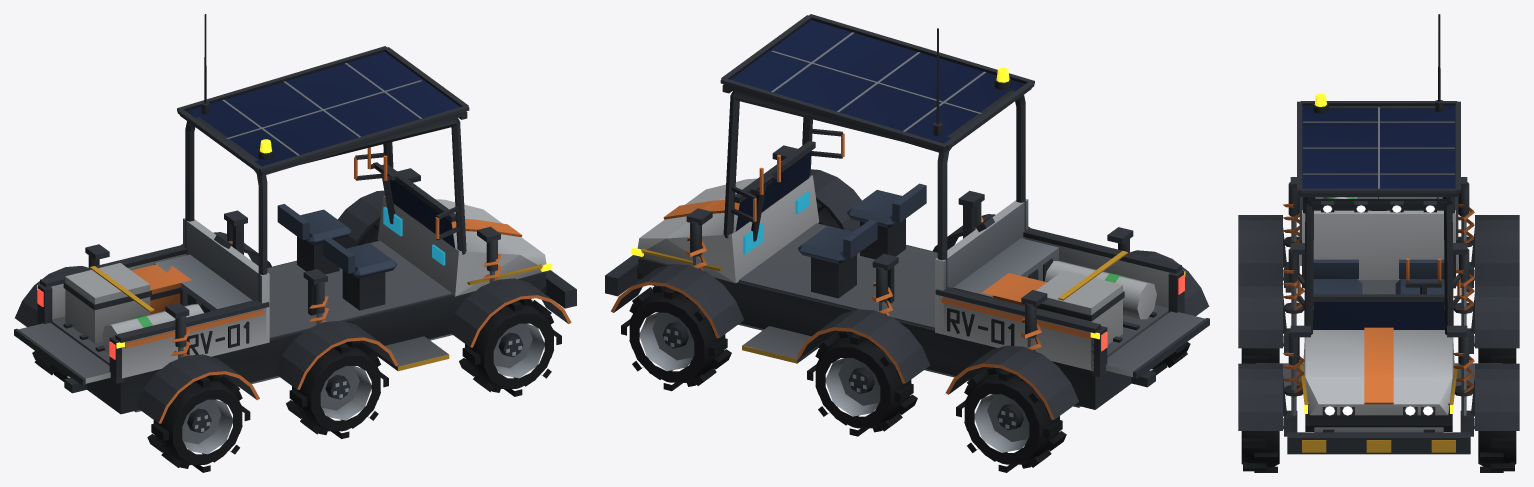
File: vehicle_rover_small.glb
3 views of the same model, side by side, from view 1: azimuth 30°, elevation 25°; view 2: azimuth 150°, elevation 25°; view 3: azimuth 270°, elevation 25° (orthographic). The views are drawn at different scales.
Visible parts, largest first — view 1: Body, Cargo, Wheel_MR, Wheel_RR, Wheel_FR, Susp_MR, Steer_FR, Steer_RR, Door_Tailgate, Steer_FL, Steer_RL; view 2: Body, Wheel_ML, Wheel_RL, Wheel_FL, Cargo, Susp_ML, Steer_RL, Steer_FL, Door_Tailgate, Steer_FR, Steer_RR; view 3: Body, Susp_ML, Susp_MR, Steer_FR, Steer_FL, Steer_RR, Steer_RL, Wheel_FL, Wheel_FR, Susp_FR, Susp_FL, Wheel_ML (+4 smaller).
Part boxes in pixels (left/top/right/bottom): Body: left=37, top=14, right=576, bottom=414; Cargo: left=63, top=263, right=203, bottom=354; Wheel_MR: left=286, top=341, right=388, bottom=438; Wheel_RR: left=147, top=375, right=250, bottom=472; Wheel_FR: left=459, top=299, right=561, bottom=396; Susp_MR: left=274, top=296, right=398, bottom=389; Steer_FR: left=447, top=278, right=571, bottom=347; Steer_RR: left=136, top=354, right=259, bottom=423; Door_Tailgate: left=14, top=322, right=110, bottom=385; Steer_FL: left=338, top=190, right=385, bottom=248; Steer_RL: left=15, top=266, right=87, bottom=326; Body: left=605, top=14, right=1185, bottom=409; Wheel_ML: left=807, top=331, right=917, bottom=436; Wheel_RL: left=956, top=367, right=1066, bottom=472; Wheel_FL: left=621, top=285, right=731, bottom=391; Cargo: left=982, top=251, right=1156, bottom=344; Susp_ML: left=796, top=282, right=930, bottom=383; Steer_RL: left=945, top=345, right=1078, bottom=419; Steer_FL: left=611, top=264, right=743, bottom=338; Door_Tailgate: left=1106, top=311, right=1209, bottom=378; Steer_FR: left=810, top=169, right=861, bottom=231; Steer_RR: left=1130, top=250, right=1209, bottom=316; Body: left=1256, top=14, right=1501, bottom=454; Susp_ML: left=1453, top=270, right=1519, bottom=353; Susp_MR: left=1238, top=270, right=1304, bottom=352; Steer_FR: left=1238, top=363, right=1297, bottom=436; Steer_FL: left=1460, top=363, right=1519, bottom=436; Steer_RR: left=1238, top=215, right=1291, bottom=292; Steer_RL: left=1460, top=215, right=1519, bottom=292; Wheel_FL: left=1478, top=431, right=1516, bottom=472; Wheel_FR: left=1241, top=431, right=1279, bottom=472; Susp_FR: left=1283, top=352, right=1304, bottom=415; Susp_FL: left=1453, top=352, right=1474, bottom=415; Wheel_ML: left=1478, top=348, right=1516, bottom=363.
Size of the model in its own units: 4.88 by 3.48 by 2.52.
